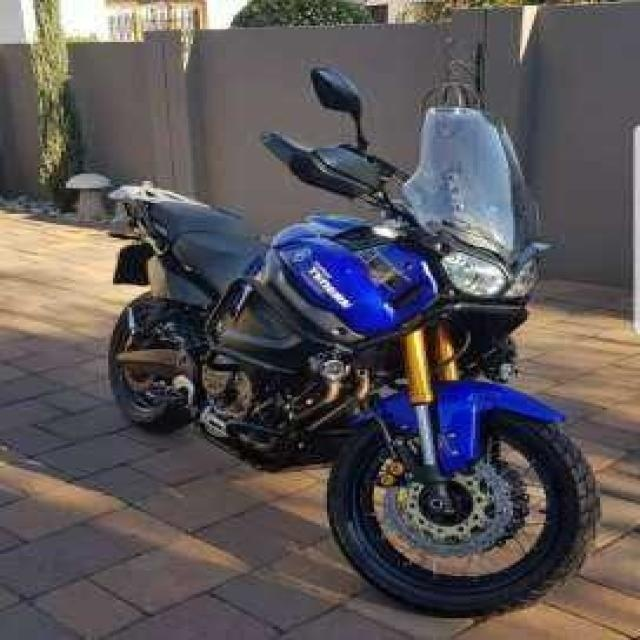Motorcycle: (81, 59, 614, 624)
